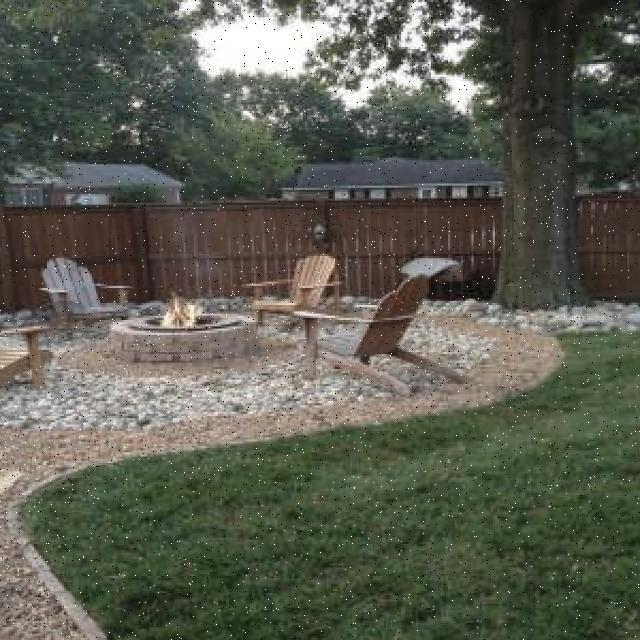fire: (160, 294, 201, 333)
smoke: (171, 209, 239, 290)
